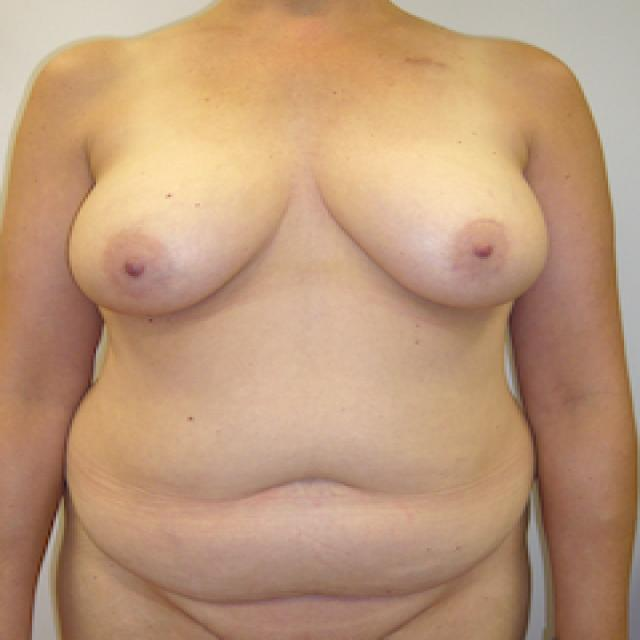Seno ileso: (62, 144, 303, 332), (306, 142, 554, 324)
